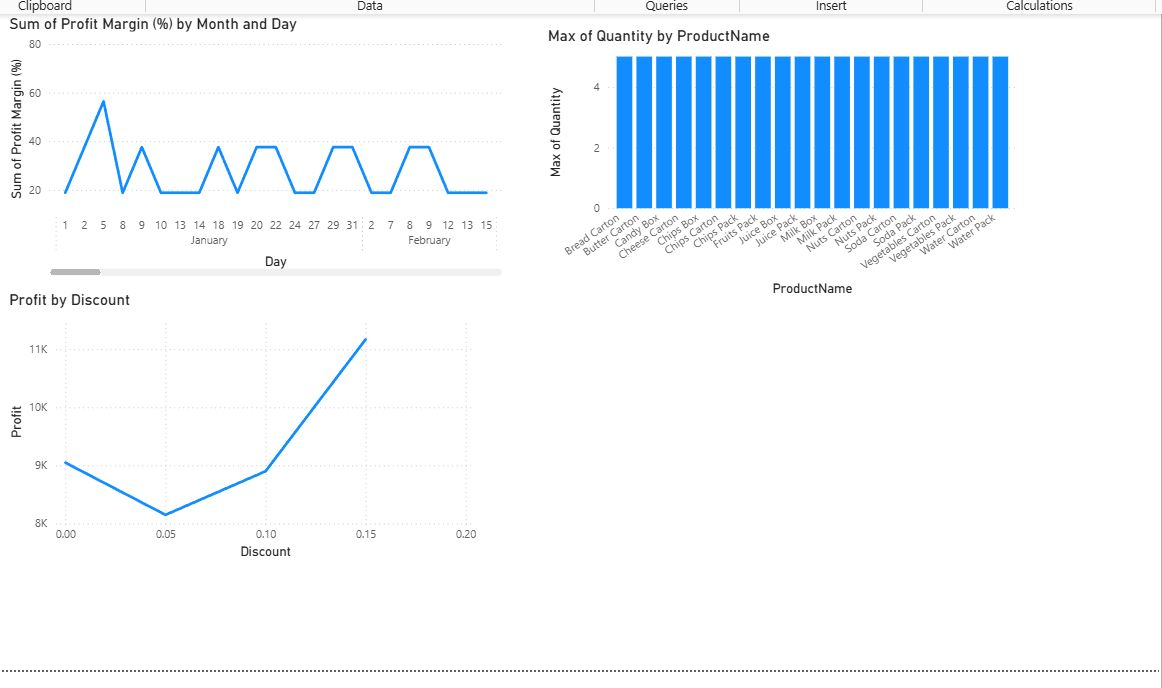

The dashboard page shown, as its layout file describes it:
{"tool":"powerbi","page":{"name":"file work","canvas":[1280,720],"ordinal":1},"visuals":[{"type":"lineChart","fields":{"Category":["SalesData.Date.Variation.Date Hierarchy.Month","SalesData.Date.Variation.Date Hierarchy.Day"],"Y":["Sum(SalesData.Profit Margin (%))"]},"box":[10.1,0,550.7,292.8],"z":0},{"type":"lineChart","fields":{"Category":["SalesData.Discount"],"Y":["Sum(SalesData.Profit)"]},"box":[10.1,302.9,523.2,300],"z":1000},{"type":"clusteredColumnChart","fields":{"Y":["Max(SalesData.Quantity)"],"Category":["ProductMaster.ProductName"]},"box":[601,13.7,524.2,300.5],"z":2000}]}

Visuals, with their boxes on the page's 1280x720 design canvas (x1, y1, x2, y2). These are canvas units, not pixel positions in the 1162x688 screenshot, which may show the page scaled, cropped or inside an application window:
lineChart - SalesData.Date.Variation.Date Hierarchy.Month x SalesData.Date.Variation.Date Hierarchy.Day: box(10, 0, 561, 293)
lineChart - SalesData.Discount x Sum(SalesData.Profit): box(10, 303, 533, 603)
clusteredColumnChart - Max(SalesData.Quantity) x ProductMaster.ProductName: box(601, 14, 1125, 314)
